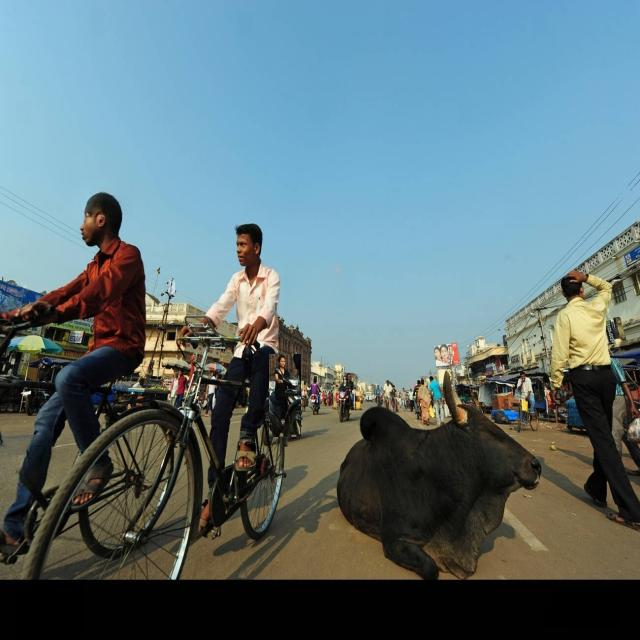bicycle: (22, 225, 285, 579)
motorcycle: (269, 354, 301, 437), (338, 374, 354, 422)
